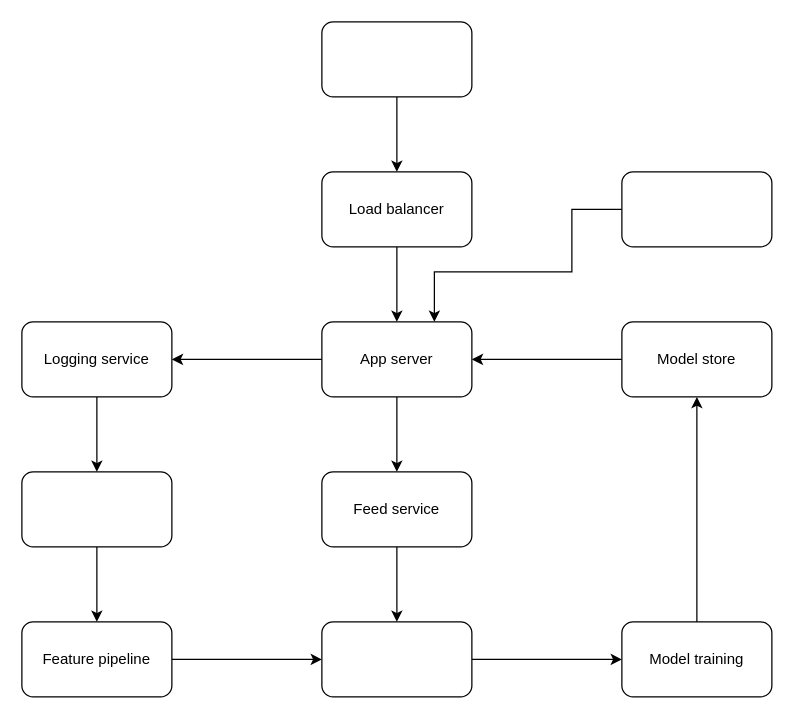
Image size: 794x719. Some labels were removed from this diagram. The shapes that lost their labels are listed below. From the top down, each one's centre as x and y in pixels, then its label:
pixel 396 59: User
pixel 696 209: Item store
pixel 96 509: Logs data
pixel 396 659: Feature store
